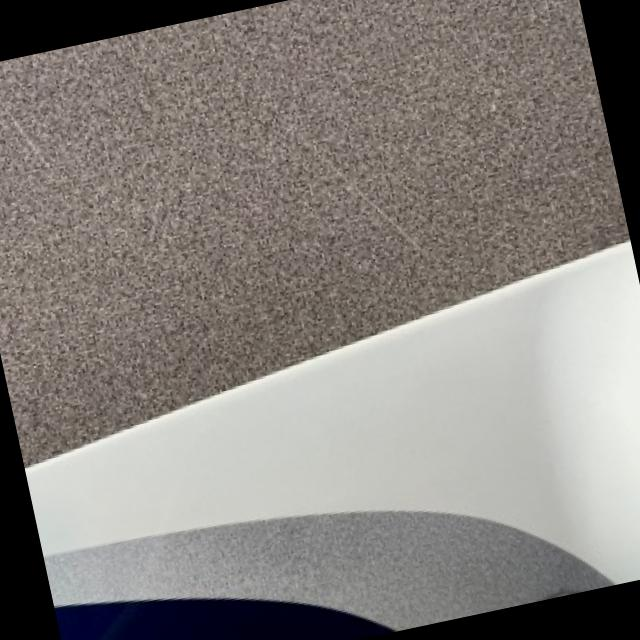healthy: (24, 239, 640, 630)
